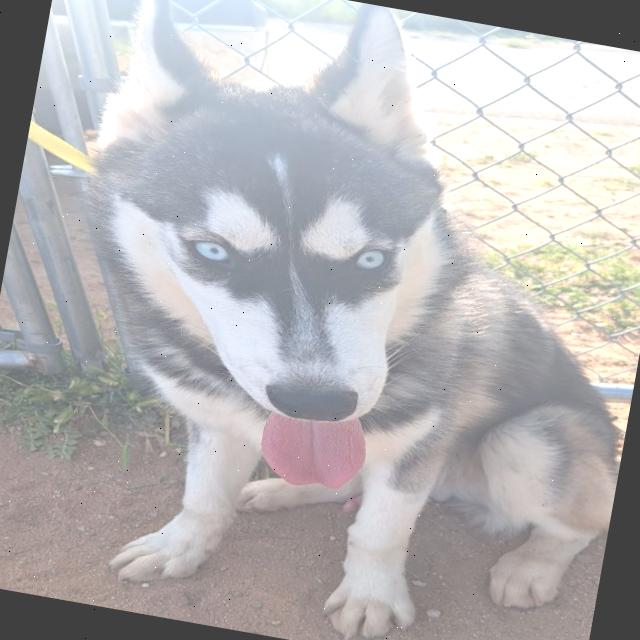siberian_husky_dog: (31, 0, 516, 526)
